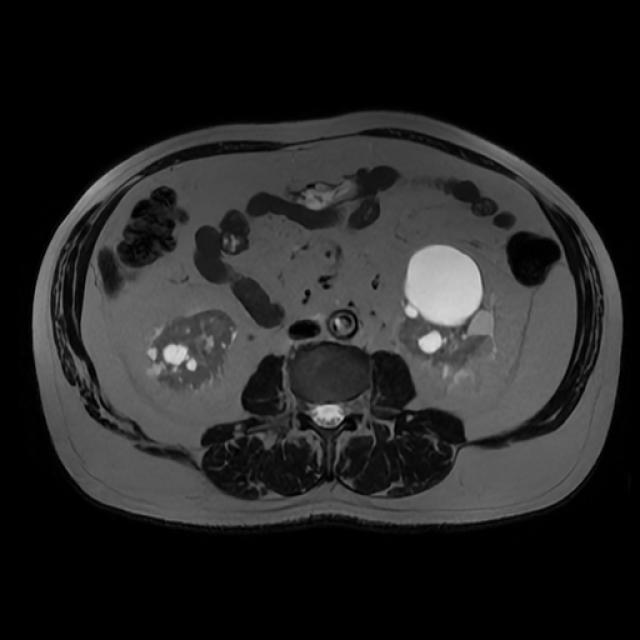sag: (146, 308, 239, 394)
sol: (398, 243, 496, 377)
